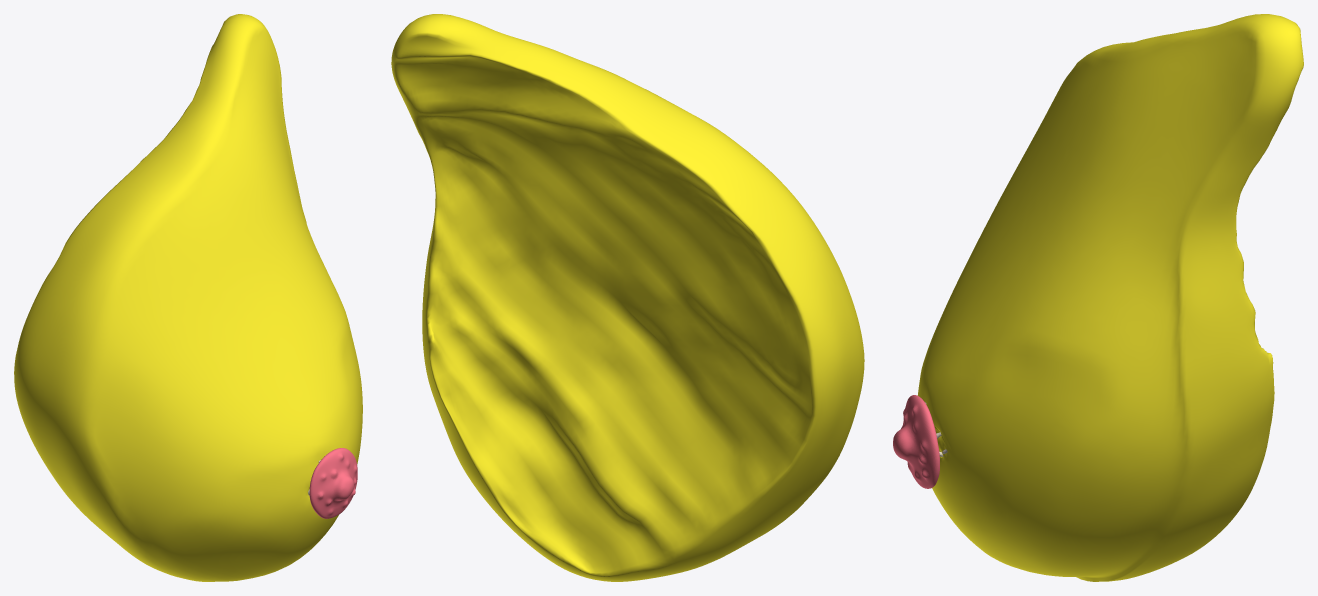
The model's file is density75.glb.
3 views of the same model, side by side, from view 1: azimuth 30°, elevation 25°; view 2: azimuth 150°, elevation 25°; view 3: azimuth 270°, elevation 25° (orthographic). The views are drawn at different scales.
Visible parts, largest first — view 1: VH_F_fat_L, VH_F_areola_L; view 2: VH_F_fat_L; view 3: VH_F_fat_L, VH_F_areola_L, VH_F_nipple_L.
Part boxes in pixels (bbox=[...]): VH_F_fat_L: bbox=[14, 14, 362, 581]; VH_F_areola_L: bbox=[309, 448, 357, 518]; VH_F_fat_L: bbox=[391, 14, 864, 581]; VH_F_fat_L: bbox=[917, 14, 1303, 581]; VH_F_areola_L: bbox=[901, 395, 939, 488]; VH_F_nipple_L: bbox=[893, 427, 913, 464].
Bounding box in the file's own units: 0.1282 × 0.1819 × 0.1119.
